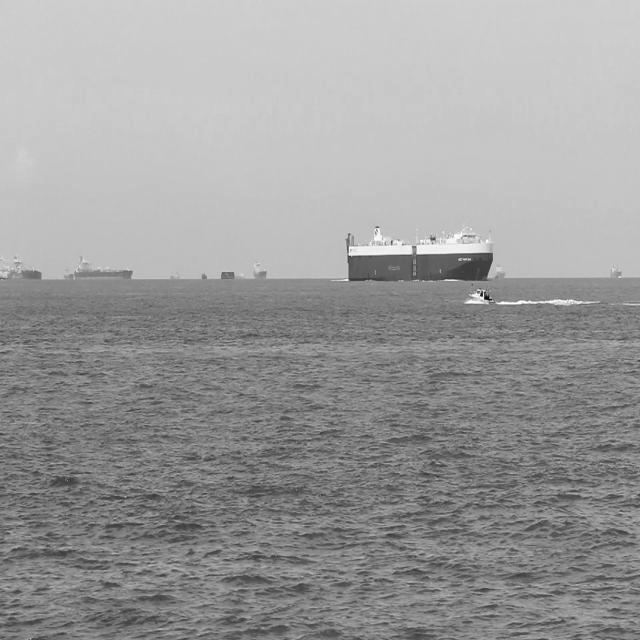ship: (344, 214, 496, 286), (73, 252, 136, 282), (0, 251, 46, 282), (464, 279, 498, 310), (250, 255, 269, 281), (606, 257, 624, 282), (492, 258, 508, 281), (60, 262, 74, 280)
